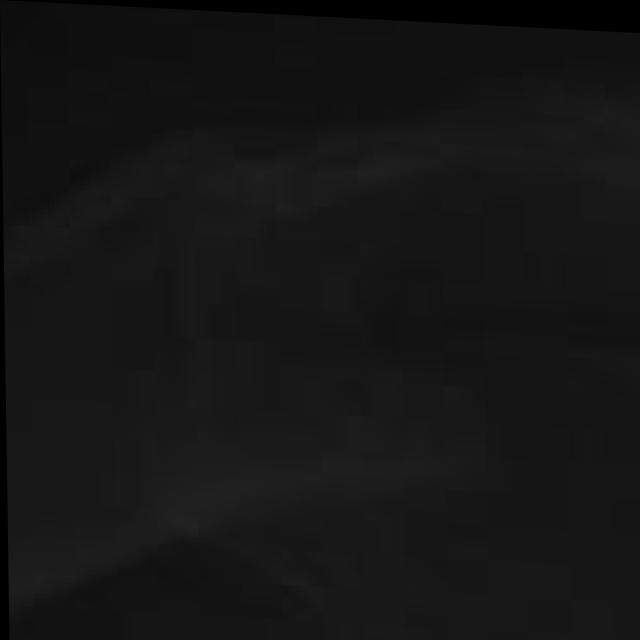fracture: (1, 16, 640, 640)
